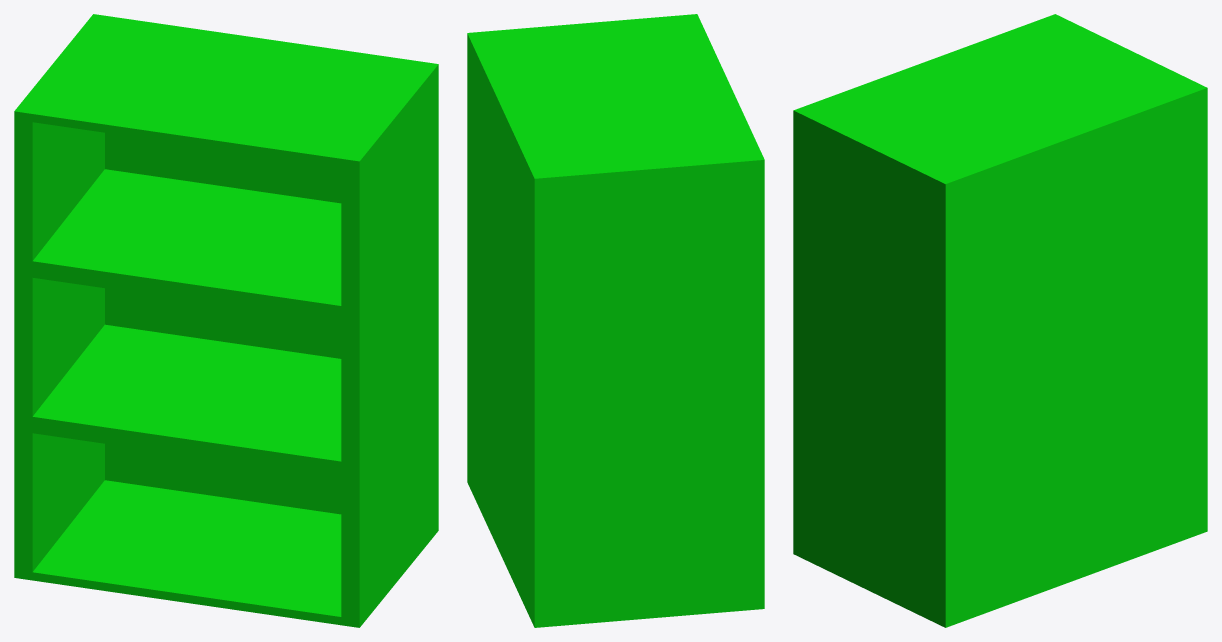
The model's file is lemari untuk pot nanam.fbx.
The picture shows the model from 3 angles, left to right: view 1: azimuth 30°, elevation 25°; view 2: azimuth 150°, elevation 25°; view 3: azimuth 270°, elevation 25°; orthographic projection. The views are drawn at different scales.
Visible parts, largest first — view 1: Cube.036; view 2: Cube.036; view 3: Cube.036.
Boxes of the visible parts, left/top/right/bottom form: Cube.036: left=14, top=14, right=438, bottom=627; Cube.036: left=467, top=14, right=764, bottom=627; Cube.036: left=793, top=14, right=1207, bottom=627.
Bounding box in the file's own units: 760 × 924 × 781.
